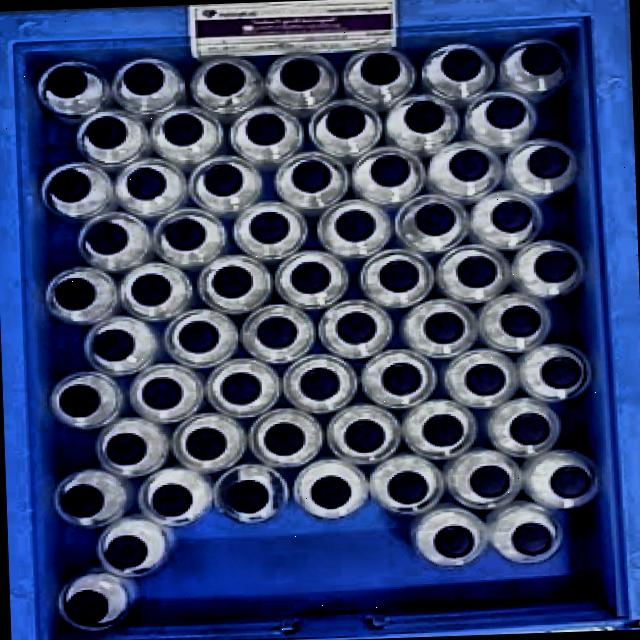vial: (261, 413, 307, 462), (416, 408, 468, 451), (503, 518, 554, 559), (542, 462, 596, 500), (537, 351, 585, 393), (102, 530, 150, 572), (146, 478, 194, 520), (285, 155, 336, 194), (81, 112, 132, 150), (182, 421, 229, 462), (378, 356, 426, 396), (174, 316, 222, 356), (46, 274, 96, 312), (218, 369, 269, 406), (429, 522, 476, 562), (134, 374, 182, 413), (304, 474, 356, 510), (488, 196, 534, 236), (460, 362, 506, 402), (58, 482, 104, 522), (277, 56, 324, 95), (531, 247, 578, 286), (40, 63, 88, 101), (208, 262, 256, 300), (506, 410, 554, 448), (384, 469, 432, 507), (102, 430, 150, 468), (437, 46, 486, 83), (371, 258, 421, 294), (332, 204, 378, 243), (497, 301, 543, 340), (296, 366, 342, 405), (465, 462, 511, 501), (420, 307, 467, 345), (55, 380, 102, 418), (480, 95, 528, 132), (87, 328, 139, 362), (522, 144, 568, 182), (452, 252, 498, 290), (332, 310, 378, 348), (128, 269, 174, 307), (62, 590, 108, 628), (145, 482, 192, 519), (242, 209, 290, 245), (338, 420, 386, 456), (46, 166, 90, 205), (161, 215, 206, 253), (366, 152, 412, 189), (396, 100, 446, 134), (410, 200, 457, 236), (356, 50, 404, 85), (254, 312, 298, 350), (224, 476, 268, 514), (158, 112, 204, 148), (197, 162, 243, 198), (240, 112, 288, 146), (444, 148, 492, 182), (122, 166, 170, 200), (119, 61, 164, 96), (518, 40, 561, 76), (322, 104, 366, 138), (84, 222, 128, 256), (289, 260, 332, 294), (204, 60, 244, 96)
